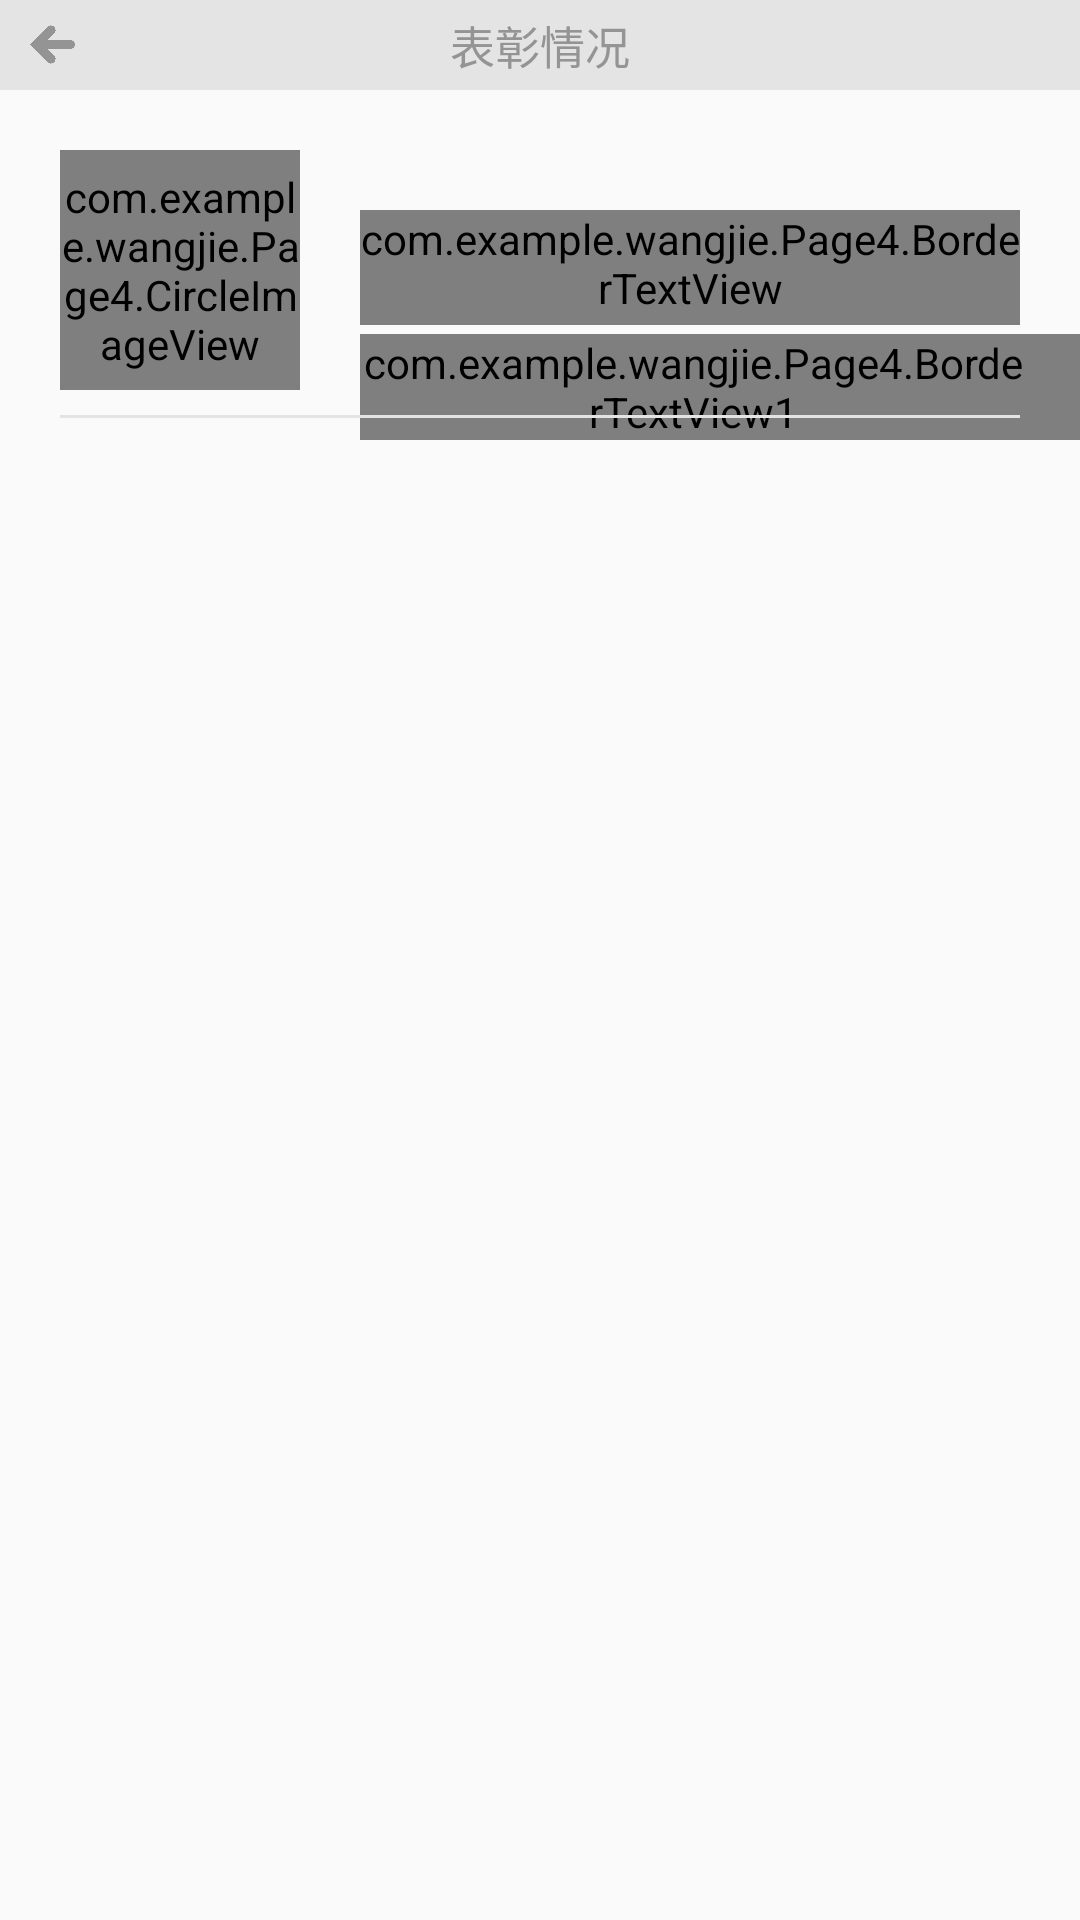

Icons on this 1080px×1920px Android screen, each with the point to tap as (x=x, y=y):
leftarray: (x=52, y=44)
